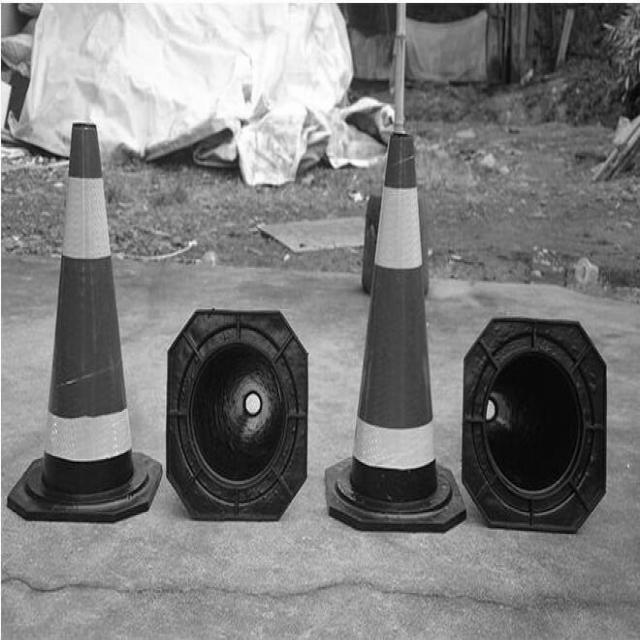reflective_cone: (6, 118, 160, 521), (324, 133, 460, 531), (466, 308, 604, 537), (166, 302, 308, 524)
